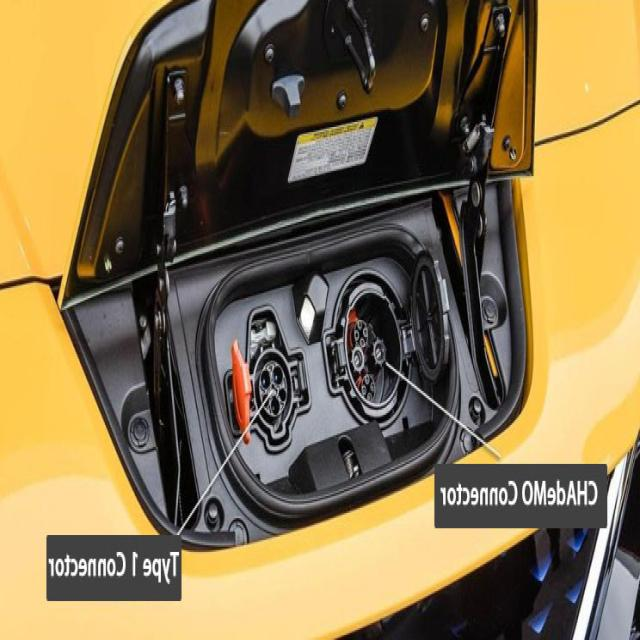CHAdeMO: (329, 257, 413, 439)
